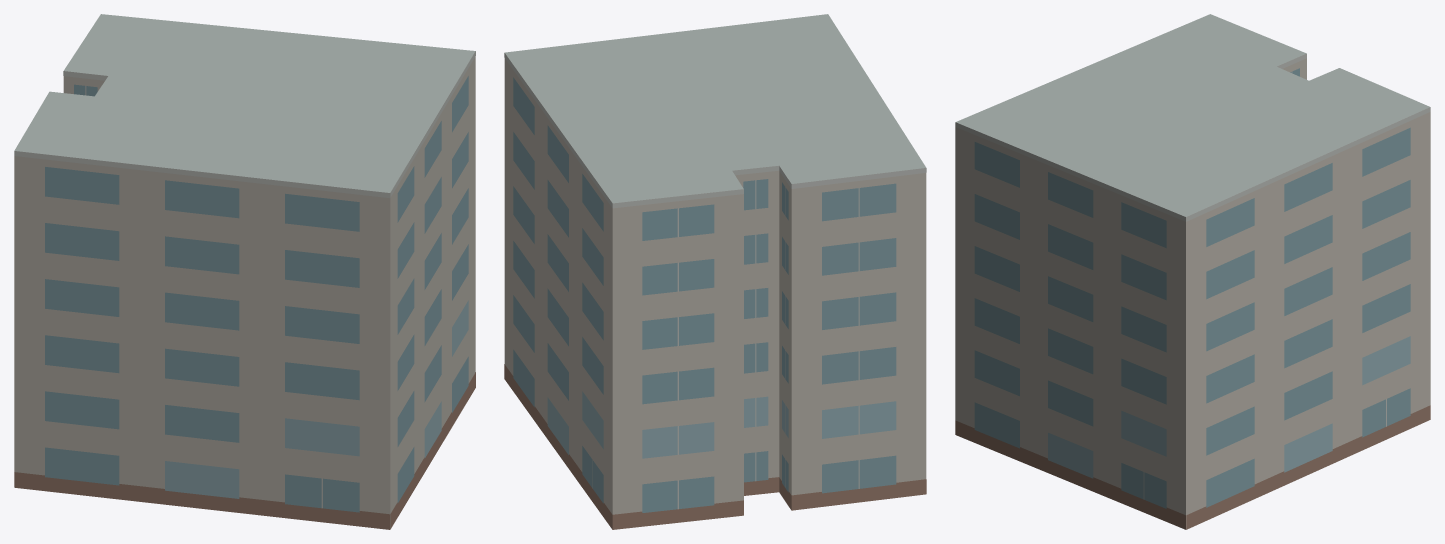
Rendered from survey-upis-32965178.glb.
3 views of the same model, side by side, from view 1: azimuth 30°, elevation 25°; view 2: azimuth 150°, elevation 25°; view 3: azimuth 270°, elevation 25° (orthographic). The views are drawn at different scales.
Visible parts, largest first — view 1: survey-upis-32965178.tmp; view 2: survey-upis-32965178.tmp; view 3: survey-upis-32965178.tmp.
Boxes of the visible parts, box(x1,y1,x2,y2) form: survey-upis-32965178.tmp: box(14, 14, 475, 529); survey-upis-32965178.tmp: box(504, 14, 926, 529); survey-upis-32965178.tmp: box(955, 14, 1430, 529).
Size of the model in its own units: 22.44 by 16.1 by 22.17.
